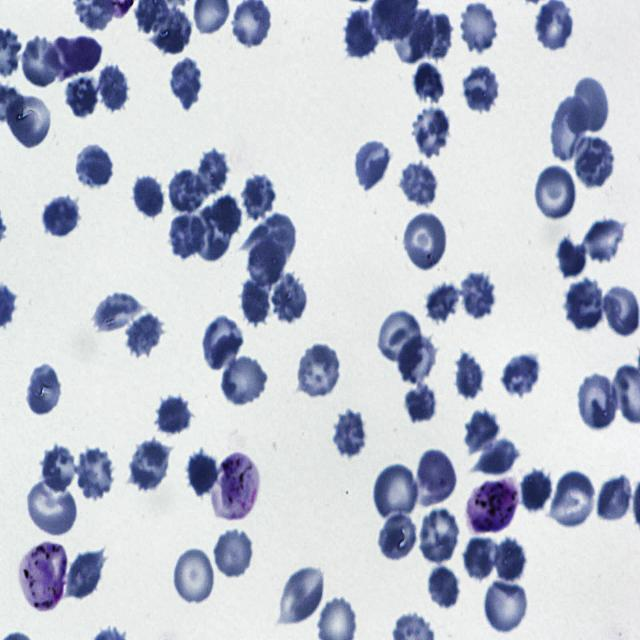gametocyte: (465, 479, 520, 536)
red blood cell: (25, 478, 78, 536), (550, 95, 592, 166), (372, 462, 420, 524), (279, 564, 327, 625), (550, 469, 596, 532), (414, 445, 459, 509), (404, 209, 448, 273), (249, 214, 296, 270), (296, 342, 342, 398), (378, 309, 424, 365), (392, 7, 438, 63), (172, 548, 216, 606), (534, 164, 578, 222), (416, 507, 462, 562), (220, 354, 267, 407), (8, 89, 50, 148), (200, 315, 243, 372), (562, 278, 606, 333), (577, 373, 619, 430), (72, 140, 116, 193), (128, 439, 172, 492), (572, 134, 615, 188), (21, 34, 64, 88), (92, 292, 146, 335), (570, 78, 611, 134), (410, 108, 454, 160), (192, 205, 232, 262), (395, 332, 437, 386), (73, 448, 116, 500), (584, 216, 628, 266), (125, 309, 165, 363), (353, 138, 393, 191), (536, 0, 576, 53), (25, 361, 62, 418), (149, 6, 192, 55), (484, 582, 526, 632), (270, 272, 308, 326), (39, 192, 81, 240), (456, 270, 498, 318), (398, 160, 440, 208), (460, 64, 500, 114), (596, 472, 636, 522), (329, 409, 369, 459), (470, 438, 522, 476), (40, 444, 79, 494), (214, 529, 253, 578), (168, 56, 204, 109), (344, 10, 382, 60), (463, 534, 501, 584), (67, 549, 105, 599), (460, 4, 498, 54), (502, 351, 542, 398), (246, 240, 286, 287), (452, 349, 488, 401), (426, 563, 464, 612), (235, 278, 272, 328), (168, 168, 210, 212), (378, 514, 418, 560), (603, 284, 639, 335), (168, 211, 206, 259), (194, 148, 231, 197), (155, 392, 196, 436), (132, 172, 168, 222), (462, 408, 501, 454), (62, 73, 100, 120), (240, 174, 277, 222), (418, 11, 455, 58), (421, 282, 464, 322), (401, 382, 439, 427), (186, 448, 221, 496), (96, 65, 131, 112), (413, 60, 448, 106), (494, 539, 528, 585), (209, 194, 243, 237), (522, 467, 552, 515), (556, 235, 588, 279)
trophozoite: (212, 453, 260, 522), (20, 540, 66, 611)
